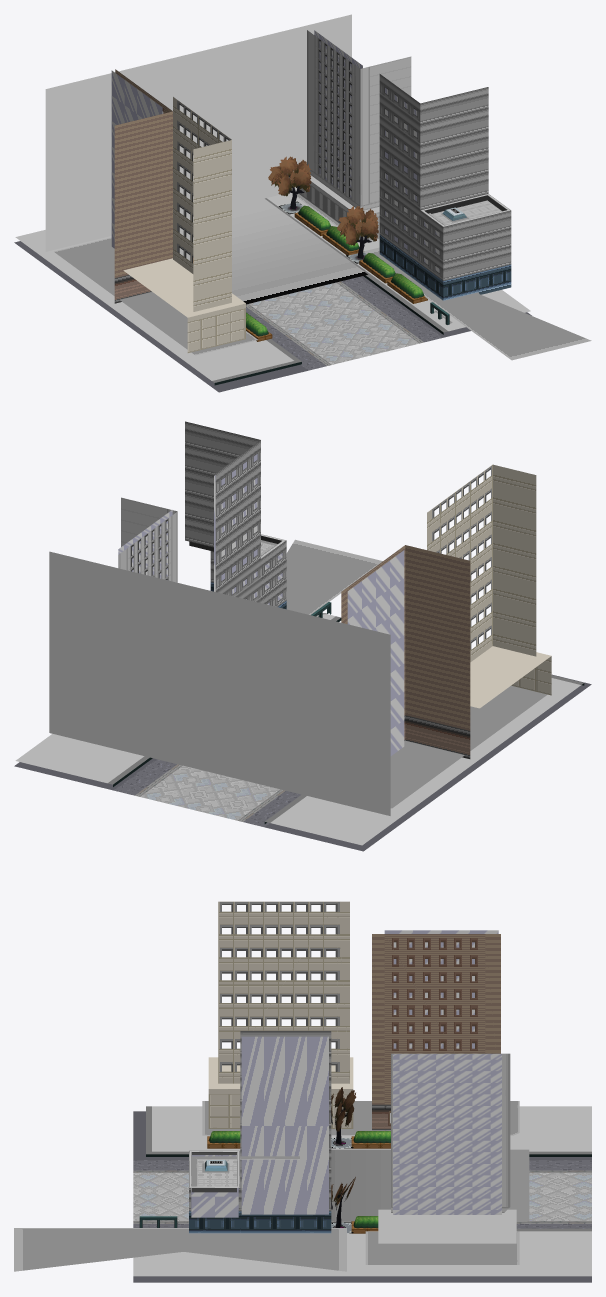
3 views of the same model, one above another, from view 1: azimuth 30°, elevation 25°; view 2: azimuth 150°, elevation 25°; view 3: azimuth 270°, elevation 25° (orthographic). The views are drawn at different scales.
Visible parts, largest first — view 1: polygon7, polygon3, polygon10, polygon19, polygon0, polygon16, polygon12, polygon8, polygon11, polygon1, polygon18, polygon4 (+8 smaller); view 2: polygon7, polygon19, polygon3, polygon16, polygon8, polygon0, polygon1, polygon11, polygon12, polygon10, polygon18, polygon17 (+1 smaller); view 3: polygon1, polygon19, polygon0, polygon16, polygon8, polygon11, polygon10, polygon12, polygon7, polygon4, polygon18, polygon9 (+6 smaller).
Boxes of the visible parts, left/top/right/bottom form: polygon7: left=45, top=14, right=367, bottom=304; polygon3: left=379, top=74, right=511, bottom=280; polygon10: left=298, top=30, right=411, bottom=238; polygon19: left=173, top=97, right=231, bottom=311; polygon0: left=54, top=193, right=591, bottom=360; polygon16: left=114, top=69, right=172, bottom=277; polygon12: left=249, top=282, right=418, bottom=364; polygon8: left=15, top=191, right=530, bottom=380; polygon11: left=14, top=241, right=531, bottom=392; polygon1: left=111, top=30, right=439, bottom=272; polygon18: left=123, top=258, right=245, bottom=352; polygon4: left=379, top=235, right=511, bottom=300; polygon7: left=49, top=551, right=390, bottom=815; polygon19: left=427, top=464, right=536, bottom=662; polygon3: left=185, top=421, right=286, bottom=606; polygon16: left=341, top=545, right=470, bottom=730; polygon8: left=15, top=614, right=580, bottom=845; polygon0: left=261, top=539, right=547, bottom=808; polygon1: left=118, top=454, right=404, bottom=755; polygon11: left=14, top=674, right=591, bottom=851; polygon12: left=140, top=765, right=279, bottom=820; polygon10: left=118, top=497, right=177, bottom=582; polygon18: left=470, top=646, right=551, bottom=708; polygon17: left=404, top=715, right=470, bottom=758; polygon1: left=191, top=930, right=501, bottom=1217; polygon19: left=218, top=901, right=349, bottom=1083; polygon0: left=14, top=1101, right=519, bottom=1271; polygon16: left=372, top=934, right=500, bottom=1104; polygon8: left=133, top=1106, right=591, bottom=1276; polygon11: left=133, top=1111, right=591, bottom=1282; polygon10: left=378, top=1053, right=516, bottom=1243; polygon12: left=133, top=1173, right=591, bottom=1220; polygon7: left=331, top=1149, right=529, bottom=1221; polygon4: left=189, top=1211, right=331, bottom=1233; polygon18: left=208, top=1057, right=353, bottom=1128; polygon9: left=133, top=1106, right=591, bottom=1231.
Bounding box in the file's own units: 8.22 × 5.22 × 11.5.
